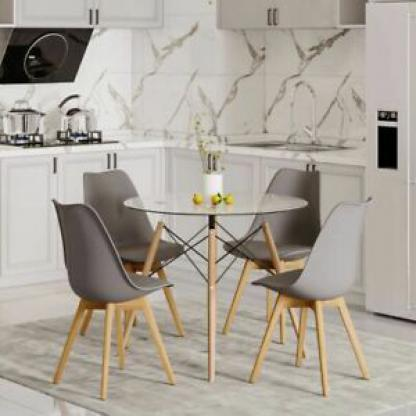chair: (50, 200, 173, 398), (275, 204, 397, 398), (232, 158, 326, 296), (84, 153, 181, 274)
table: (127, 195, 312, 389)
